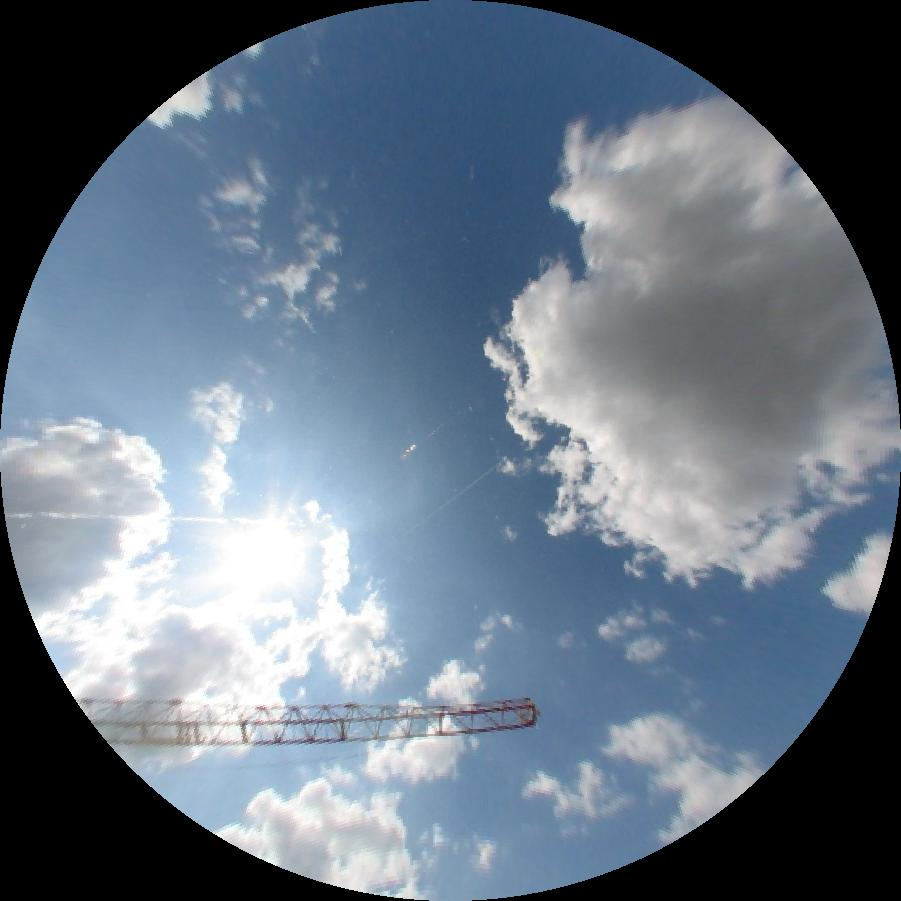contrail young: (390, 460, 503, 546)
parasite: (5, 512, 287, 523)
sun: (217, 508, 310, 590)
